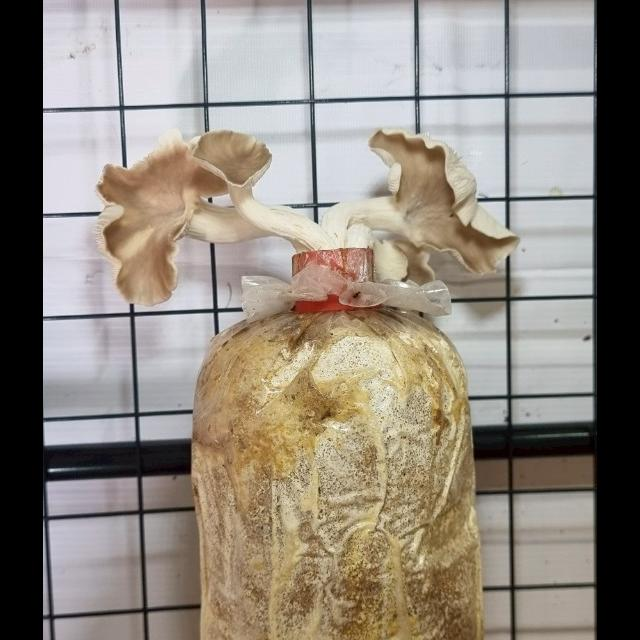normal: (88, 135, 337, 321), (334, 117, 525, 277), (192, 108, 338, 297)
